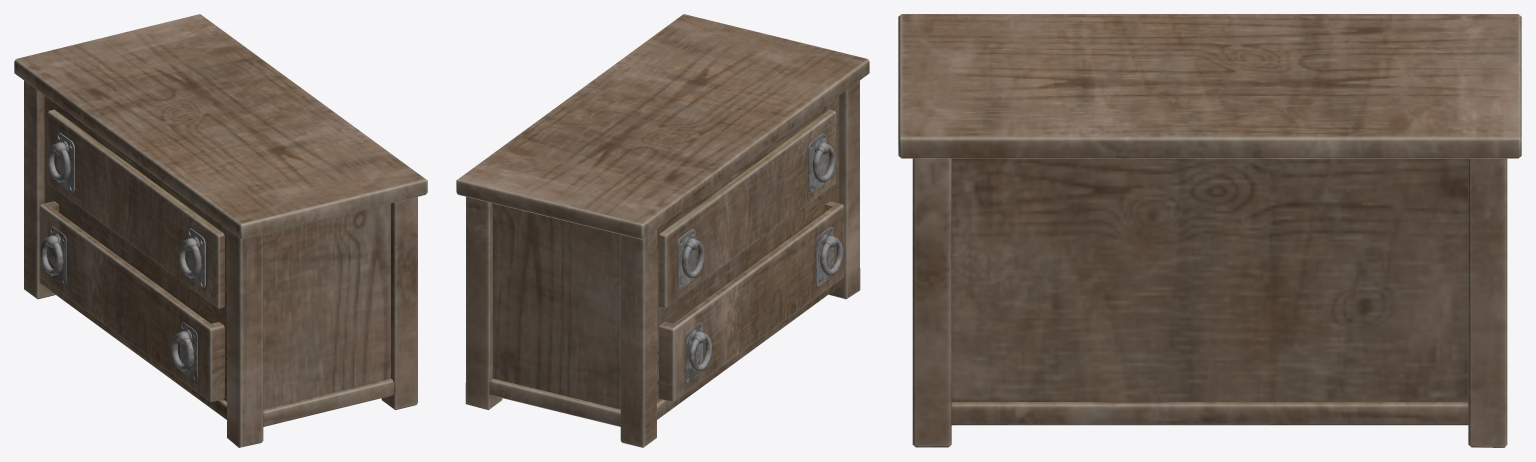
Rendered from SM_cabinet_01.fbx.
3 renders of one model, left to right at view 1: azimuth 30°, elevation 25°; view 2: azimuth 150°, elevation 25°; view 3: azimuth 270°, elevation 25°, orthographic. The views are drawn at different scales.
Visible parts, largest first — view 1: SM_cabinet_01_LOD0; view 2: SM_cabinet_01_LOD0; view 3: SM_cabinet_01_LOD0.
Boxes of the visible parts, x1,y1,x2,y2 form: SM_cabinet_01_LOD0: (14, 14, 427, 447); SM_cabinet_01_LOD0: (456, 14, 869, 447); SM_cabinet_01_LOD0: (898, 14, 1521, 447).
Size of the model in its own units: 97.77 by 191 by 106.
Materials: 1 (1 with a texture image).
